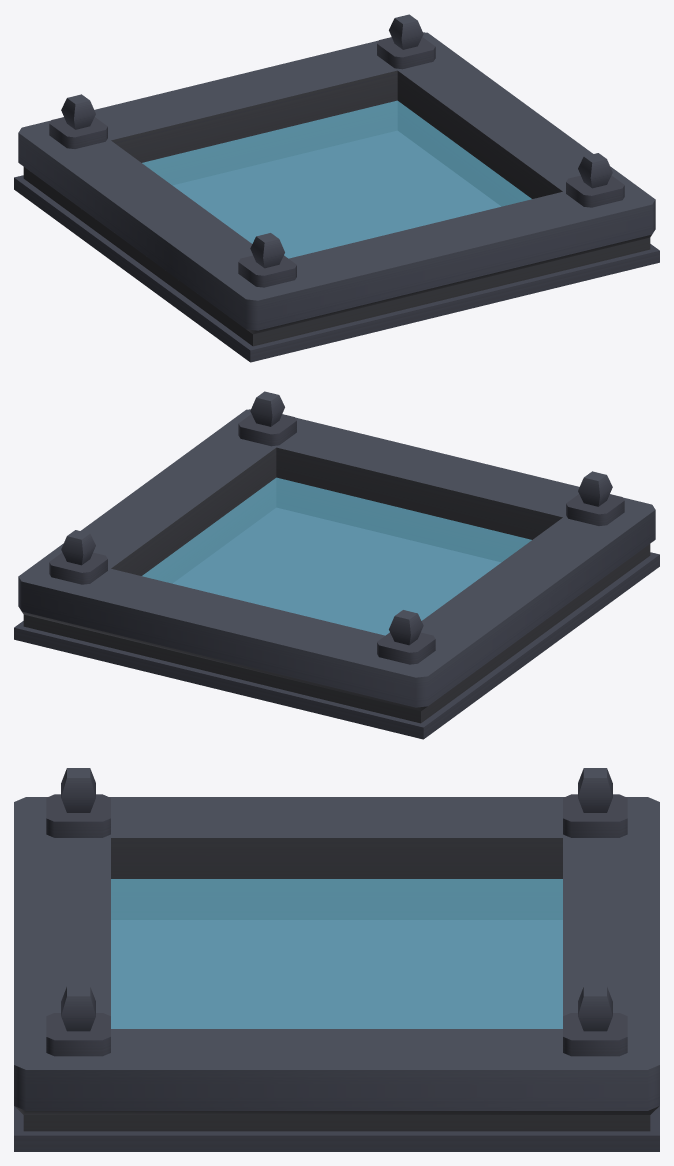
Rendered from fountain-square.glb.
The picture shows the model from 3 angles, top to bottom: view 1: azimuth 30°, elevation 25°; view 2: azimuth 150°, elevation 25°; view 3: azimuth 270°, elevation 25°; orthographic projection. The views are drawn at different scales.
Visible parts, largest first — view 1: fountain-square, (_ignore); view 2: fountain-square, (_ignore); view 3: fountain-square, (_ignore).
Part boxes in pixels (x1=…): fountain-square: x1=14, y1=14, x2=659, y2=362; (_ignore): x1=142, y1=100, x2=531, y2=258; fountain-square: x1=14, y1=391, x2=659, y2=739; (_ignore): x1=142, y1=477, x2=531, y2=635; fountain-square: x1=14, y1=768, x2=659, y2=1151; (_ignore): x1=111, y1=879, x2=562, y2=1028.
Bounding box in the file's own units: 2 × 0.4552 × 2.
Materials: 2 (1 with a texture image).
